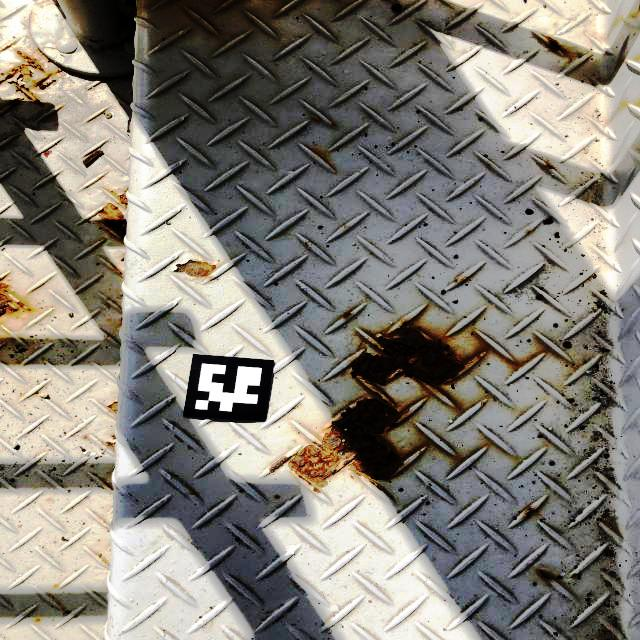Corrosion: (269, 390, 403, 495), (350, 325, 486, 386), (0, 49, 66, 107), (97, 203, 125, 238), (1, 280, 25, 316), (172, 260, 215, 277), (107, 187, 127, 208), (100, 432, 116, 452), (547, 38, 565, 51), (538, 570, 553, 580), (525, 506, 537, 518), (106, 402, 117, 415), (342, 312, 351, 319), (459, 277, 467, 284)
